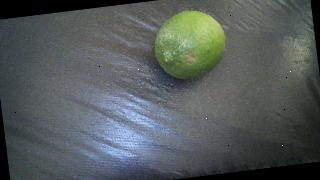DESECHO: (150, 7, 229, 83)
